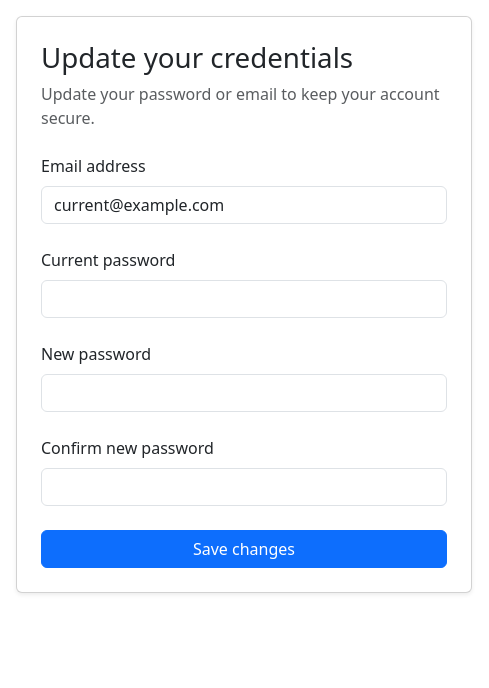
it: ChangePasswordFlow › validates email format
Step 1. Replace the text in the field labelled "Email address" with "not-an-email" → (244, 205), box [41,186,447,224]
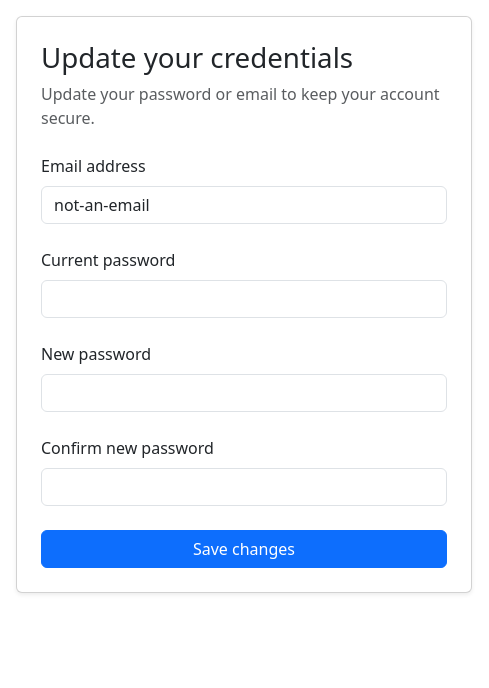
Step 2. Click the button "Save changes" → (244, 549), box [41,530,447,568]
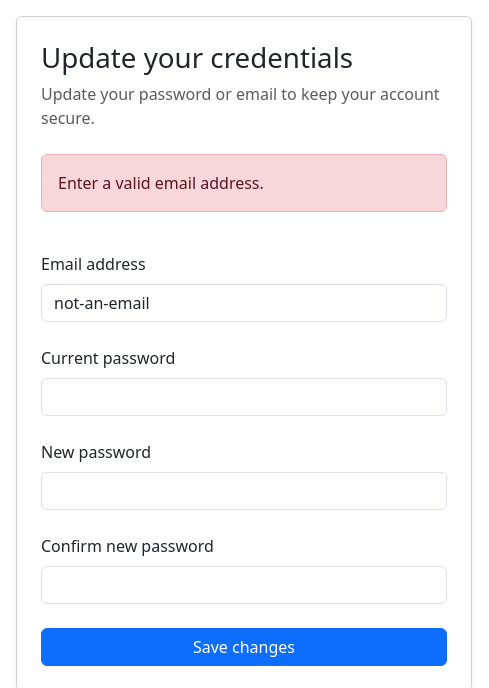
Now the text "Enter a valid email address." is shown, box [41,154,447,212]
